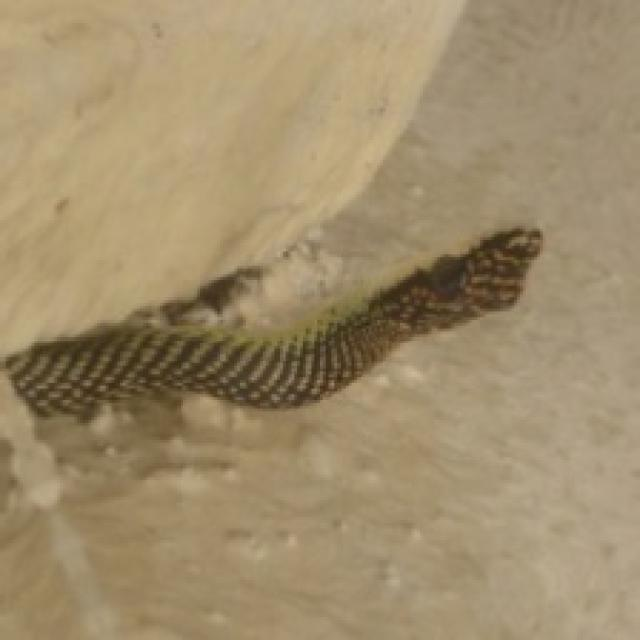paradise tree snake: (6, 229, 540, 411)
